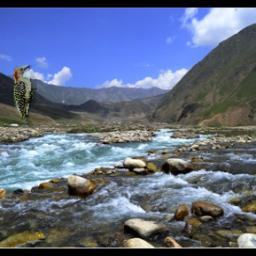Woodpecker: (14, 66, 37, 127)
